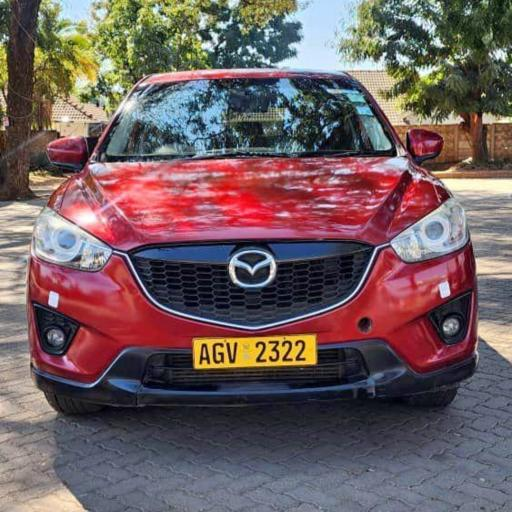number-plates: (191, 336, 316, 367)
